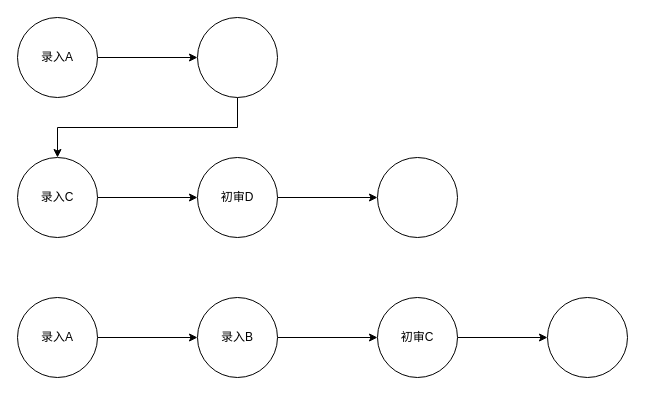
Some shapes in this 645 by 395 pixel diagram are drawn without their labels. Here are the shapes that lost their labels. From the top down, the box of each, then its label:
(196, 16, 278, 98): 初审B
(376, 156, 458, 238): 复审E
(546, 296, 628, 378): 复审D
